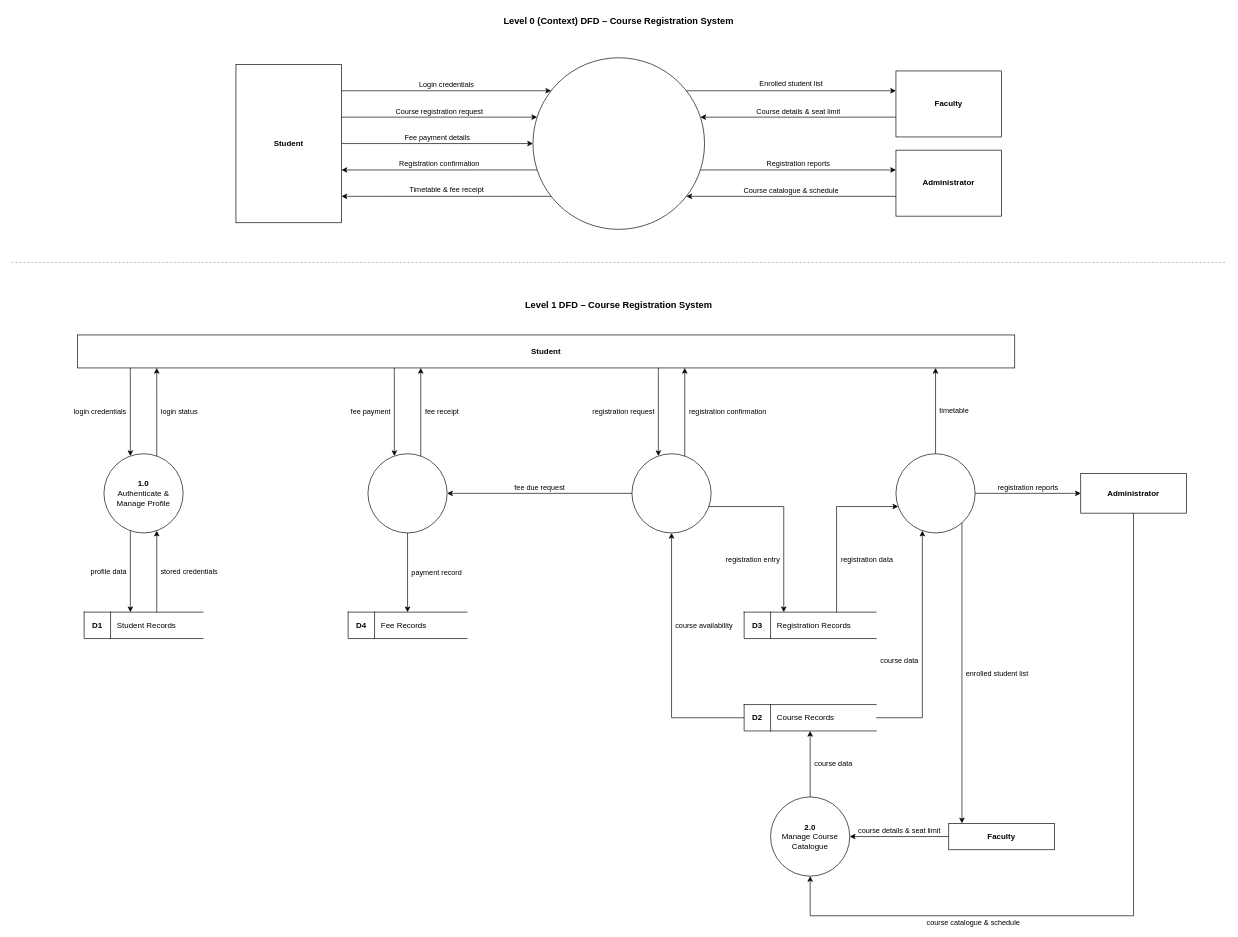
The diagram is 1238 pixels wide and 937 high, and some of its shapes have lost their labels. The centre of each missing label's shape, as x and y in pixels:
0 Course Registration System: (618,143)
3.0 Register for Courses: (671,493)
4.0 Verify Fee Payment: (407,493)
5.0 Generate Reports & Timetable: (935,493)
